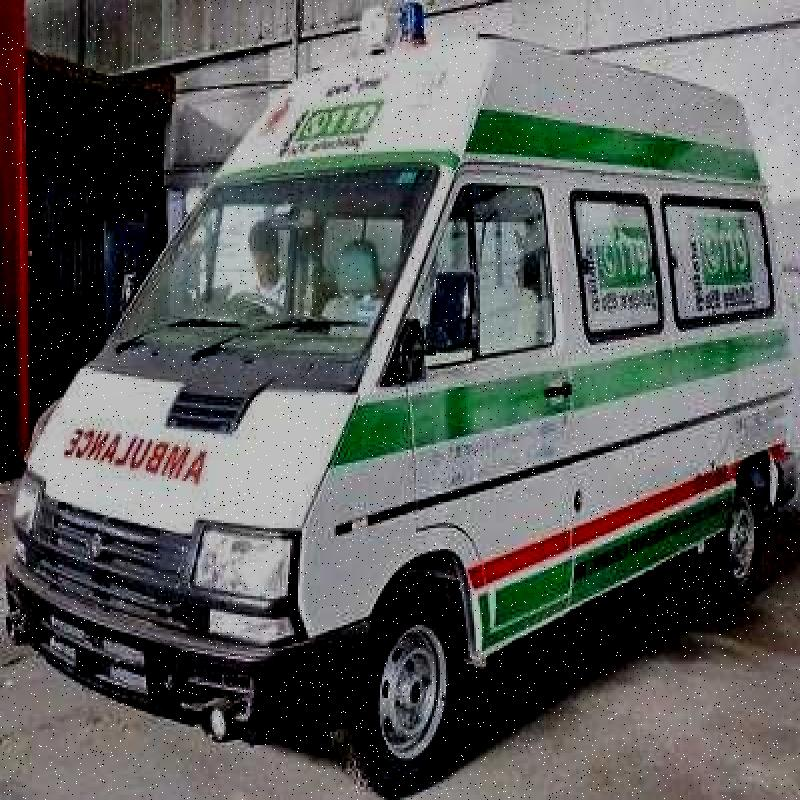AmbulanceSiren: (384, 0, 446, 55)
